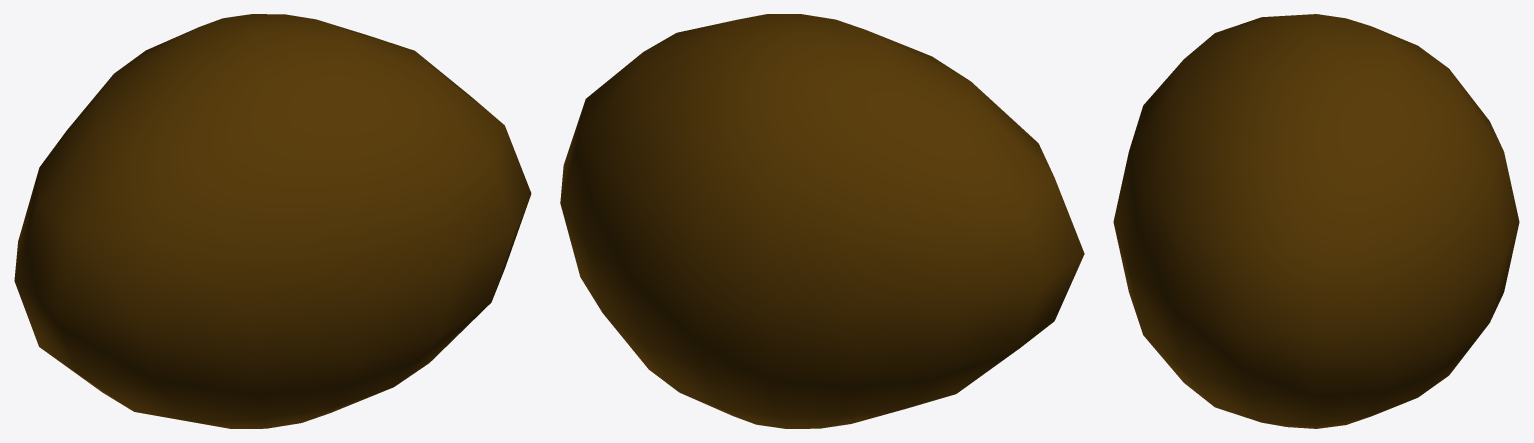
The model's file is naso_nero.glb.
3 views of the same model, side by side, from view 1: azimuth 30°, elevation 25°; view 2: azimuth 150°, elevation 25°; view 3: azimuth 270°, elevation 25° (orthographic). The views are drawn at different scales.
Parts seen in each view (by area): view 1: mastro_naso.002; view 2: mastro_naso.002; view 3: mastro_naso.002.
Part boxes in pixels (x1,y1,x2,y2): mastro_naso.002: (14,14,531,428); mastro_naso.002: (560,14,1084,428); mastro_naso.002: (1113,14,1519,428).
Size of the model in its own units: 0.0332 by 0.0248 by 0.0248.
